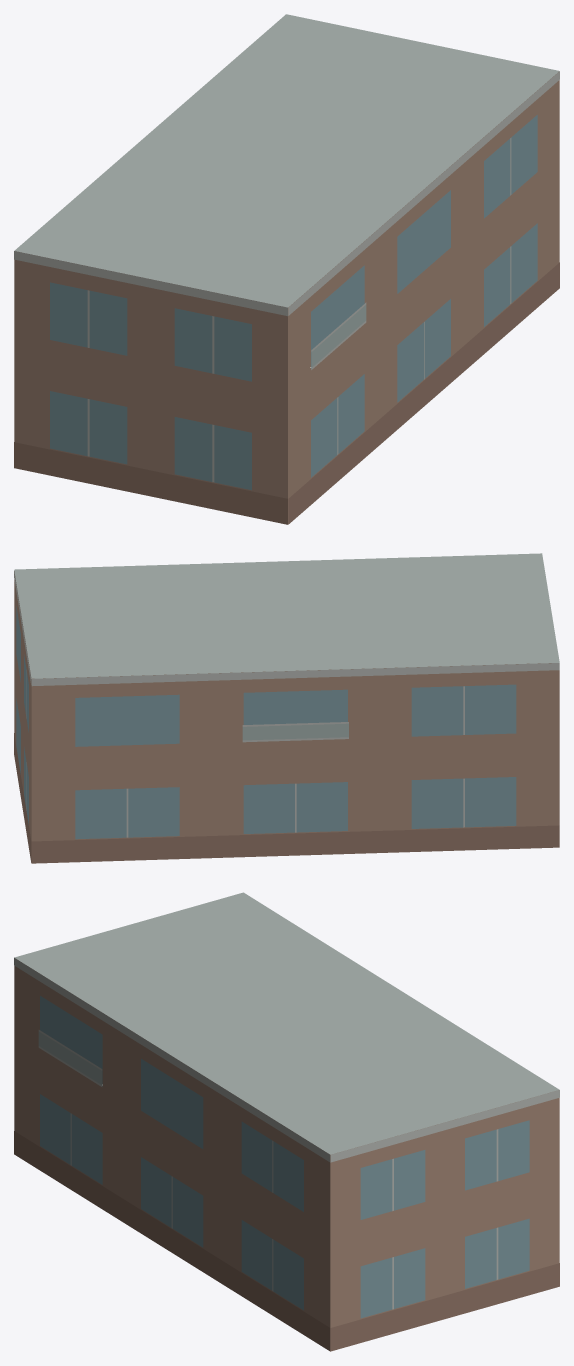
File: survey-upis-32809074.glb
The picture shows the model from 3 angles, top to bottom: view 1: azimuth 30°, elevation 25°; view 2: azimuth 150°, elevation 25°; view 3: azimuth 270°, elevation 25°; orthographic projection. The views are drawn at different scales.
Visible parts, largest first — view 1: survey-upis-32809074.tmp; view 2: survey-upis-32809074.tmp; view 3: survey-upis-32809074.tmp.
Part boxes in pixels (x1,y1,x2,y2): survey-upis-32809074.tmp: [14, 14, 559, 524]; survey-upis-32809074.tmp: [14, 553, 559, 863]; survey-upis-32809074.tmp: [14, 892, 559, 1351].
Bounding box in the file's own units: 17.46 × 6.1 × 15.34.
